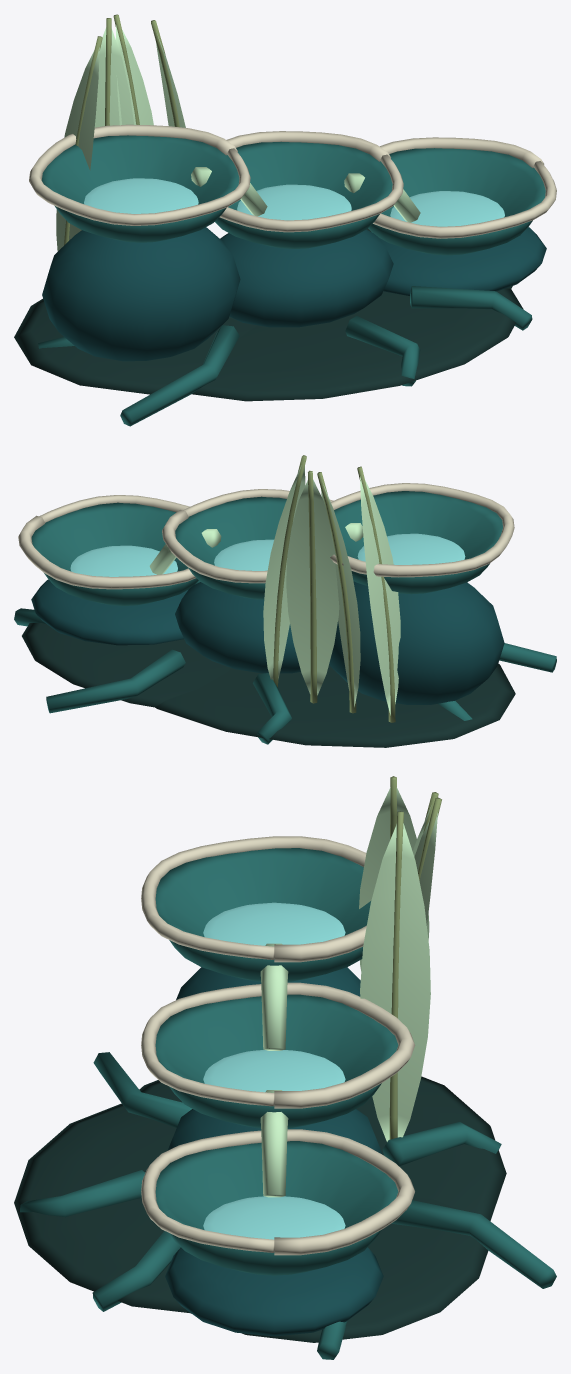
The model's file is building_mineral_washery_a.obj.
3 views of the same model, one above another, from view 1: azimuth 30°, elevation 25°; view 2: azimuth 150°, elevation 25°; view 3: azimuth 270°, elevation 25° (orthographic). The views are drawn at different scales.
Parts seen in each view (by area): view 1: supporting_chamber.009, irregular_anchoring_lobe.092, supporting_chamber.010, open_living_cup.093, open_living_cup.095, open_living_cup.094, irregular_anchoring_lobe.090, supporting_chamber.011, grown_cup_lip.093, grown_cup_lip.095, grown_cup_lip.094, visible_cup_contents.093 (+15 smaller); view 2: irregular_anchoring_lobe.090, supporting_chamber.009, open_living_cup.093, open_living_cup.095, irregular_anchoring_lobe.091, bent_living_blade.105, supporting_chamber.010, supporting_chamber.011, open_living_cup.094, grown_cup_lip.095, bent_living_blade.103, grown_cup_lip.093 (+15 smaller); view 3: irregular_anchoring_lobe.092, open_living_cup.095, open_living_cup.094, open_living_cup.093, supporting_chamber.011, bent_living_blade.106, irregular_anchoring_lobe.091, irregular_anchoring_lobe.090, grown_cup_lip.095, grown_cup_lip.094, grown_cup_lip.093, visible_cup_contents.095 (+15 smaller).
Part boxes in pixels (x1,y1,x2,y2): supporting_chamber.009: (42,227,240,361); irregular_anchoring_lobe.092: (191,288,523,401); supporting_chamber.010: (220,229,393,327); open_living_cup.093: (41,135,239,242); open_living_cup.095: (368,148,545,255); open_living_cup.094: (215,141,392,248); irregular_anchoring_lobe.090: (14,298,256,394); supporting_chamber.011: (379,227,546,295); grown_cup_lip.093: (29,124,250,225); grown_cup_lip.095: (373,137,556,238); grown_cup_lip.094: (219,131,403,232); visible_cup_contents.093: (84,178,198,213); irregular_anchoring_lobe.090: (155,663,515,747); supporting_chamber.009: (329,581,504,704); open_living_cup.093: (334,491,502,594); open_living_cup.095: (31,502,198,605); irregular_anchoring_lobe.091: (22,623,230,707); bent_living_blade.105: (286,479,339,695); supporting_chamber.010: (175,582,300,673); supporting_chamber.011: (31,579,187,645); open_living_cup.094: (175,496,286,599); grown_cup_lip.095: (18,495,195,589); bent_living_blade.103: (360,476,400,715); grown_cup_lip.093: (330,483,514,577); irregular_anchoring_lobe.092: (14,1103,189,1312); open_living_cup.095: (155,1141,398,1275); open_living_cup.094: (155,994,398,1128); open_living_cup.093: (155,848,370,981); supporting_chamber.011: (165,1247,383,1336); bent_living_blade.106: (360,823,430,1141); irregular_anchoring_lobe.091: (190,1196,488,1342); irregular_anchoring_lobe.090: (139,1076,506,1221); grown_cup_lip.095: (141,1129,414,1255); grown_cup_lip.094: (141,982,415,1108); grown_cup_lip.093: (141,836,366,962); visible_cup_contents.095: (203,1196,345,1239).
Bounding box in the file's own units: 3.63 × 1.96 × 2.73.
